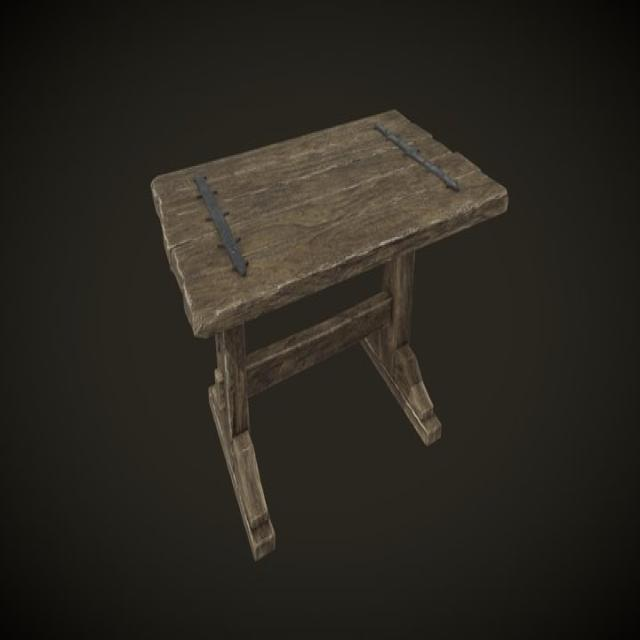table: (154, 105, 509, 564)
